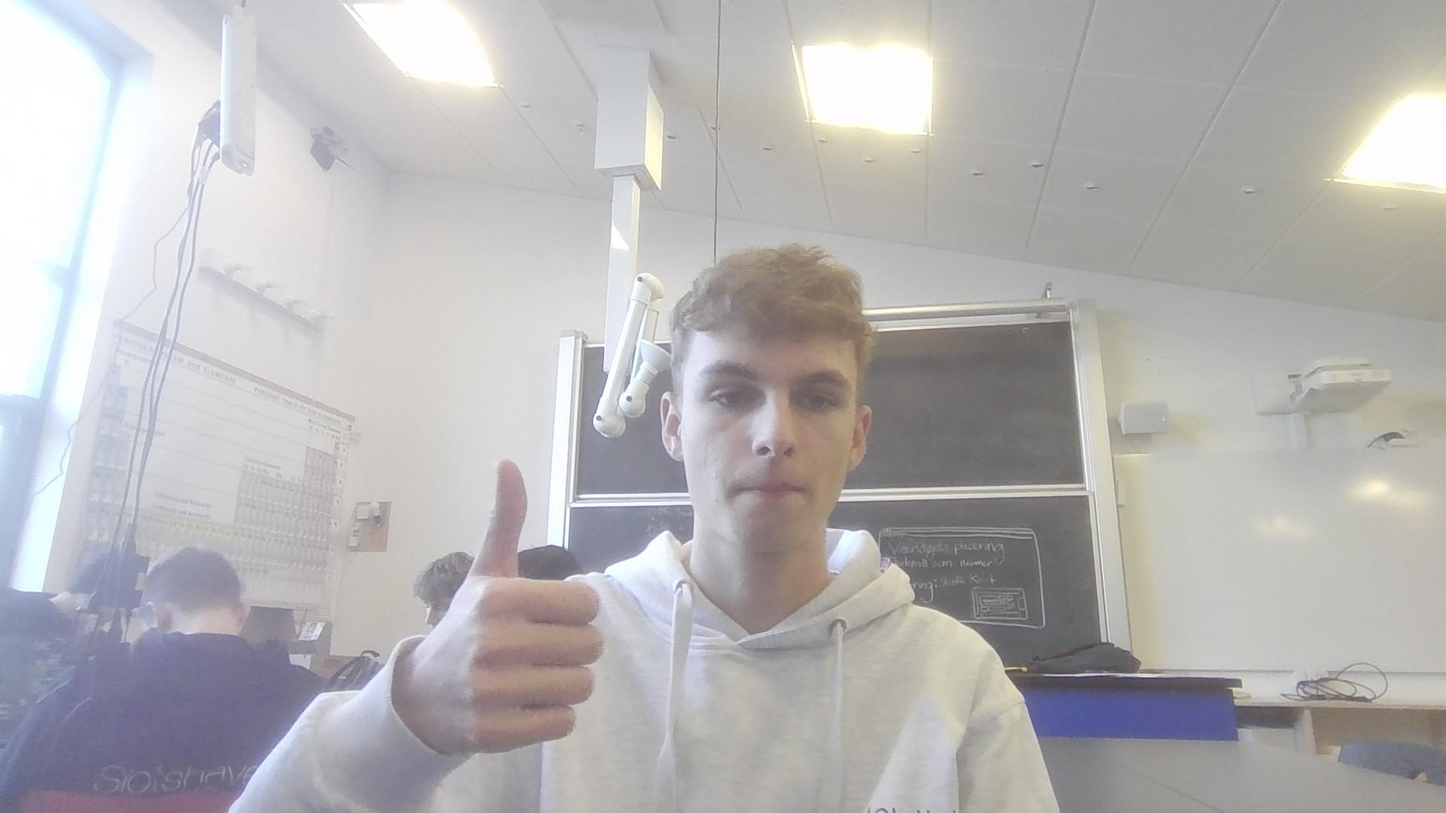thumbs up: (413, 456, 610, 768)
